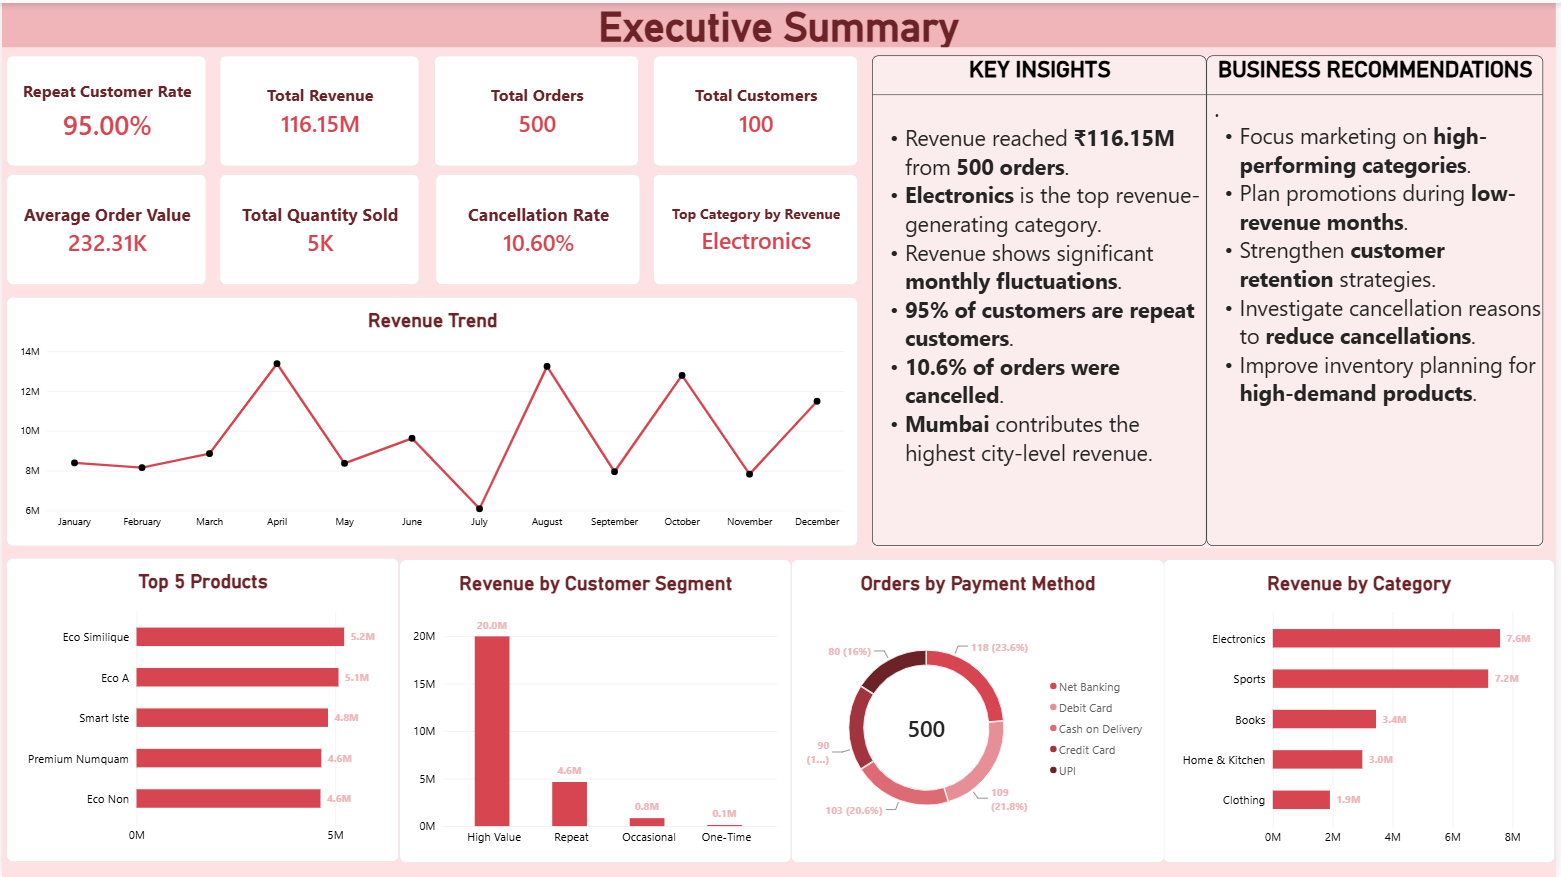

The page's visual inventory and layout, read from the dashboard file:
{"tool":"powerbi","page":{"name":"Executive Summary","canvas":[1920,1080],"ordinal":5},"visuals":[{"type":"cardVisual","fields":{"Data":["order_items.Total Revenue"]},"box":[269.7,64.9,247.4,137.9],"z":0},{"type":"cardVisual","fields":{"Data":["orders.Total Orders"]},"box":[533.3,64.9,253.4,137.9],"z":1000},{"type":"cardVisual","fields":{"Data":["customers.Total Customers"]},"box":[804.9,64.9,253.4,137.9],"z":2000},{"type":"cardVisual","fields":{"Data":["orders.Average Order Value"]},"box":[6.1,210.9,247.4,137.9],"z":3000},{"type":"barChart","title":"Revenue by Category","fields":{"Category":["products.category"],"Y":["order_items.Total Revenue"]},"box":[1435.5,688.2,483.8,374.8],"z":4000},{"type":"columnChart","title":"Revenue by Customer Segment","fields":{"Category":["customers.Customer Type"],"Y":["customers.Customer Type Revenue"]},"box":[490.6,688.2,483.8,374.8],"z":5000},{"type":"donutChart","title":"Orders by Payment Method","fields":{"Category":["orders.payment_method"],"Y":["orders.Total Orders"]},"box":[974.4,688.2,461.1,374.8],"z":6000},{"type":"textbox","title":"Executive Summary","box":[0,0,1920.1,54.7],"z":7000},{"type":"cardVisual","fields":{"Data":["customers.Repeat Customer Rate"]},"box":[6.1,64.9,247.4,137.9],"z":8000},{"type":"cardVisual","fields":{"Data":["orders.Cancellation Rate"]},"box":[535.3,210.9,253.4,137.9],"z":9000},{"type":"cardVisual","fields":{"Data":["order_items.Total Quantity Sold"]},"box":[269.7,210.9,247.4,137.9],"z":10000},{"type":"cardVisual","fields":{"Data":["products.Top Category by Revenue"]},"box":[804.9,210.9,253.4,137.9],"z":11000},{"type":"lineChart","title":"Revenue Trend","fields":{"Category":["DateTable.Month"],"Y":["order_items.Total Revenue"]},"box":[6.1,362.9,1052.3,308.2],"z":12000},{"type":"barChart","title":"Top 5 Products","fields":{"Category":["products.product_name"],"Y":["order_items.Total Revenue"]},"box":[6.1,685.3,484.6,375.1],"z":13000},{"type":"textbox","box":[1074.3,65.9,829,606.4],"z":13001},{"type":"textbox","title":"KEY INSIGHTS","box":[1074.8,65.1,413.4,606.3],"z":13002},{"type":"textbox","title":"BUSINESS RECOMMENDATIONS","box":[1488.2,65.1,415.9,606.3],"z":13003}]}

Visuals, with their boxes in screenshot pixels (x1, y1, x2, y2), scaled from the page's 1920x1080 canvas onto the 1561x877 screenshot:
cardVisual - order_items.Total Revenue: (x1=219, y1=53, x2=420, y2=165)
cardVisual - orders.Total Orders: (x1=434, y1=53, x2=640, y2=165)
cardVisual - customers.Total Customers: (x1=654, y1=53, x2=860, y2=165)
cardVisual - orders.Average Order Value: (x1=5, y1=171, x2=206, y2=283)
"Revenue by Category" barChart: (x1=1167, y1=559, x2=1560, y2=863)
"Revenue by Customer Segment" columnChart: (x1=399, y1=559, x2=792, y2=863)
"Orders by Payment Method" donutChart: (x1=792, y1=559, x2=1167, y2=863)
"Executive Summary" textbox: (x1=0, y1=0, x2=1560, y2=44)
cardVisual - customers.Repeat Customer Rate: (x1=5, y1=53, x2=206, y2=165)
cardVisual - orders.Cancellation Rate: (x1=435, y1=171, x2=641, y2=283)
cardVisual - order_items.Total Quantity Sold: (x1=219, y1=171, x2=420, y2=283)
cardVisual - products.Top Category by Revenue: (x1=654, y1=171, x2=860, y2=283)
"Revenue Trend" lineChart: (x1=5, y1=295, x2=861, y2=545)
"Top 5 Products" barChart: (x1=5, y1=556, x2=399, y2=861)
textbox: (x1=873, y1=54, x2=1547, y2=546)
"KEY INSIGHTS" textbox: (x1=874, y1=53, x2=1210, y2=545)
"BUSINESS RECOMMENDATIONS" textbox: (x1=1210, y1=53, x2=1548, y2=545)
